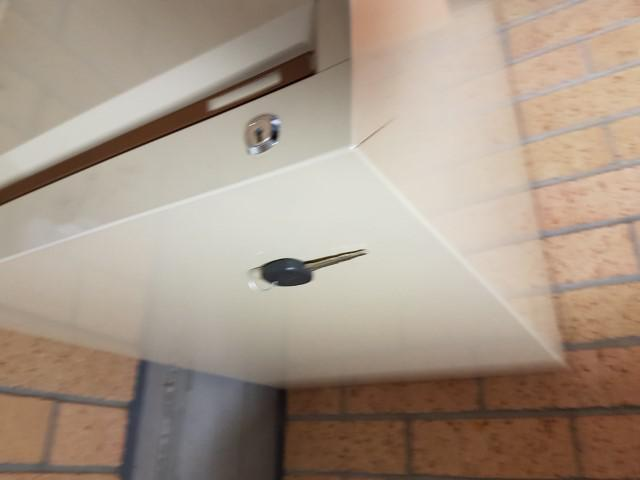key: (262, 248, 367, 287)
